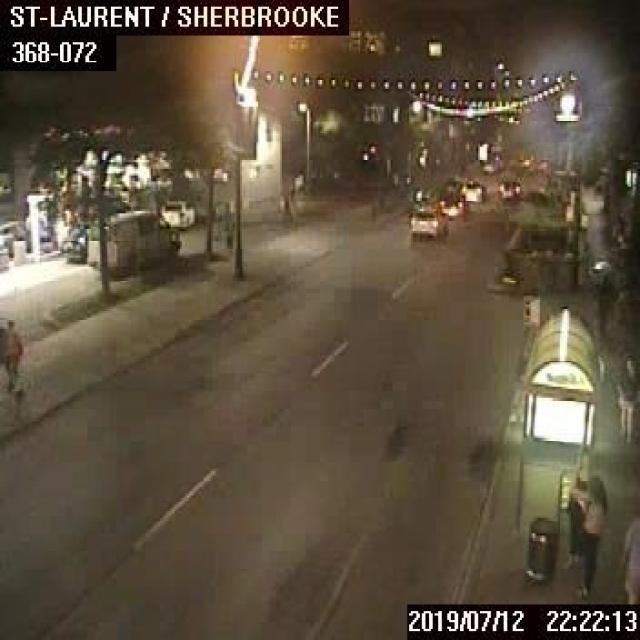pedestrian: (574, 475, 606, 597), (615, 351, 638, 445), (564, 475, 586, 569), (0, 314, 22, 394), (620, 513, 638, 602), (593, 270, 616, 336)
vehicle: (86, 208, 180, 274), (408, 198, 448, 234), (158, 198, 194, 229), (60, 221, 87, 257), (437, 189, 465, 216), (459, 177, 486, 200), (496, 176, 521, 198), (480, 156, 502, 172)
